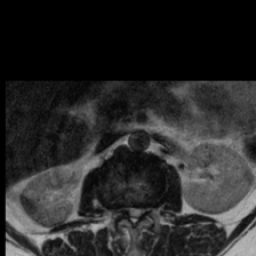CCS_normal: (130, 199, 136, 231)
LFS_severe_stenosis: (143, 196, 151, 220)
LLS_stenosis: (136, 199, 143, 221)
RFS_severe_stenosis: (116, 196, 123, 219)
RLS_severe_stenosis: (123, 198, 130, 220)
